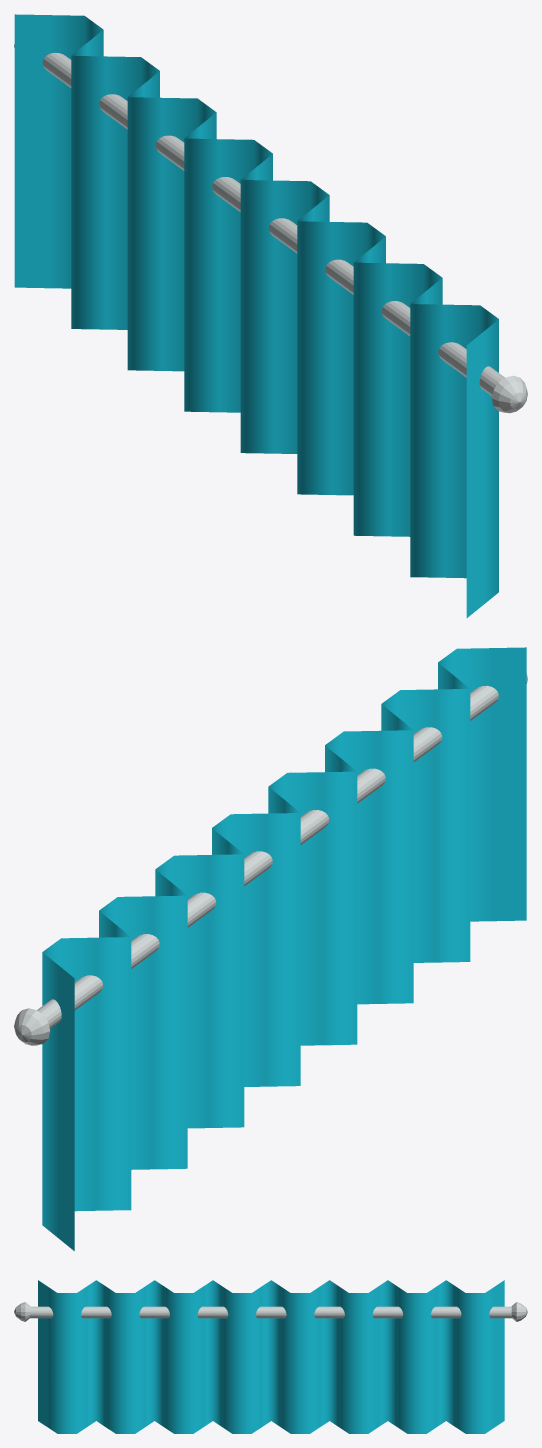
Rendered from curtains.dae.
3 views of the same model, one above another, from view 1: azimuth 30°, elevation 25°; view 2: azimuth 150°, elevation 25°; view 3: azimuth 270°, elevation 25° (orthographic). The views are drawn at different scales.
Visible parts, largest first — view 1: Cylinder.002; view 2: Cylinder.002; view 3: Cylinder.002.
Boxes of the visible parts, x1,y1,x2,y2 form: Cylinder.002: (14,14,527,617); Cylinder.002: (14,647,527,1250); Cylinder.002: (14,1280,527,1433).
Size of the model in its own units: 0.1307 by 2.2 by 0.6667.
